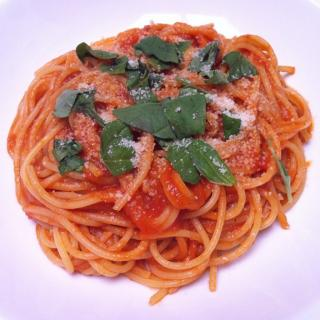Pasta: (6, 20, 312, 306)
